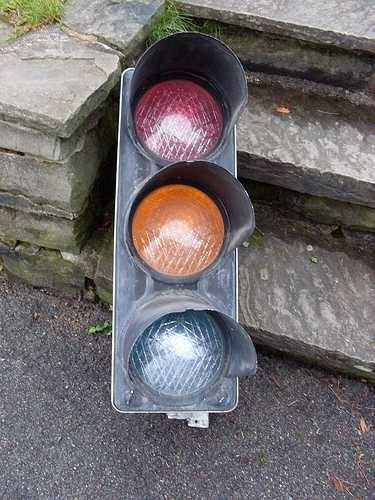5: (126, 58, 240, 170)
9: (121, 168, 230, 292)
red traffic light: (118, 298, 238, 406)
